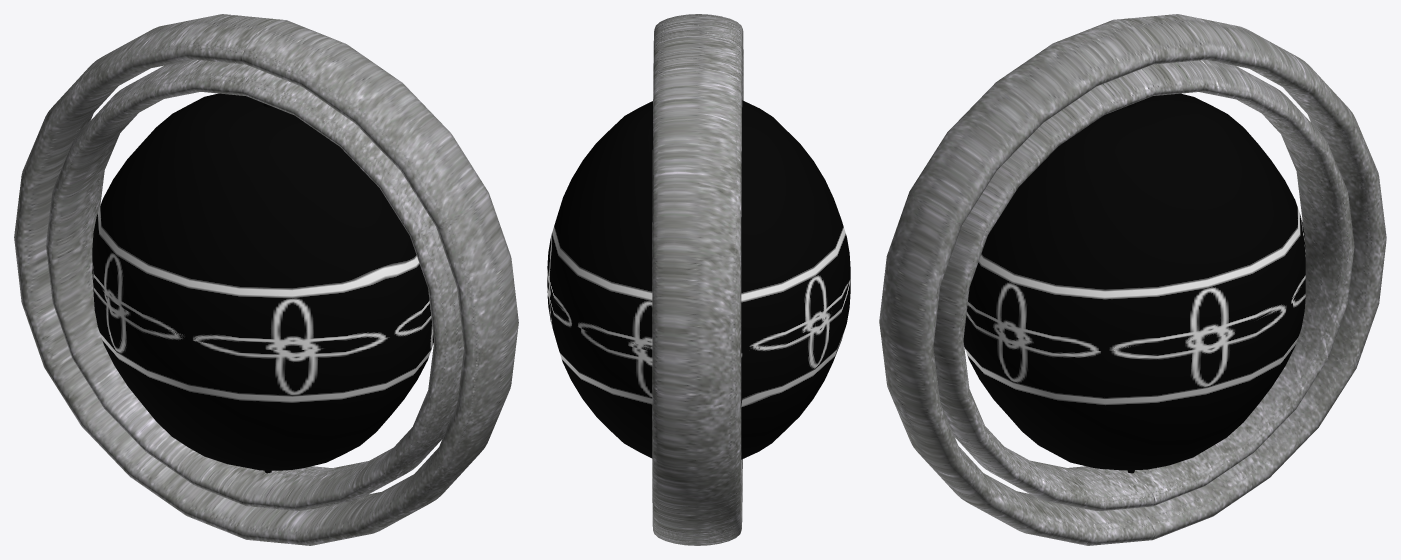
Rendered from FBXWeakFloatingMine.fbx.
3 views of the same model, side by side, from view 1: azimuth 30°, elevation 25°; view 2: azimuth 150°, elevation 25°; view 3: azimuth 270°, elevation 25° (orthographic). The views are drawn at different scales.
Visible parts, largest first — view 1: polySurface1; view 2: polySurface1; view 3: polySurface1.
Boxes of the visible parts, x1,y1,x2,y2 form: polySurface1: (14,14,518,545); polySurface1: (547,14,850,545); polySurface1: (879,14,1386,545).
Bounding box in the file's own units: 1.36 × 2.23 × 2.02.
